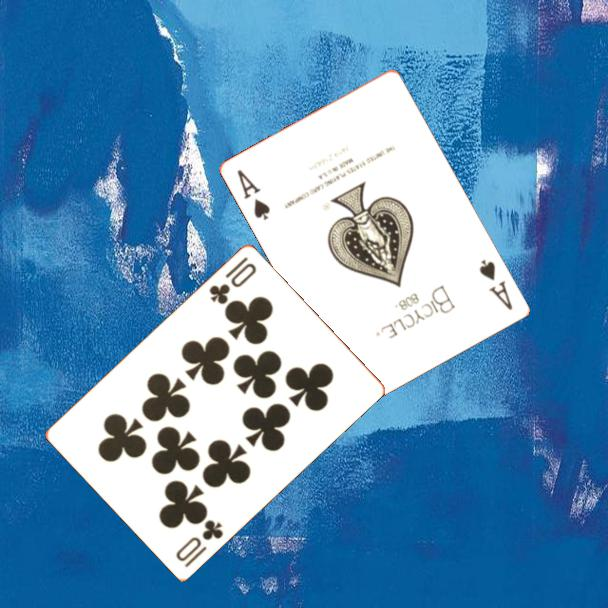c10: (205, 252, 259, 307), (172, 516, 226, 570)
s01: (476, 256, 516, 313), (234, 166, 273, 223)
